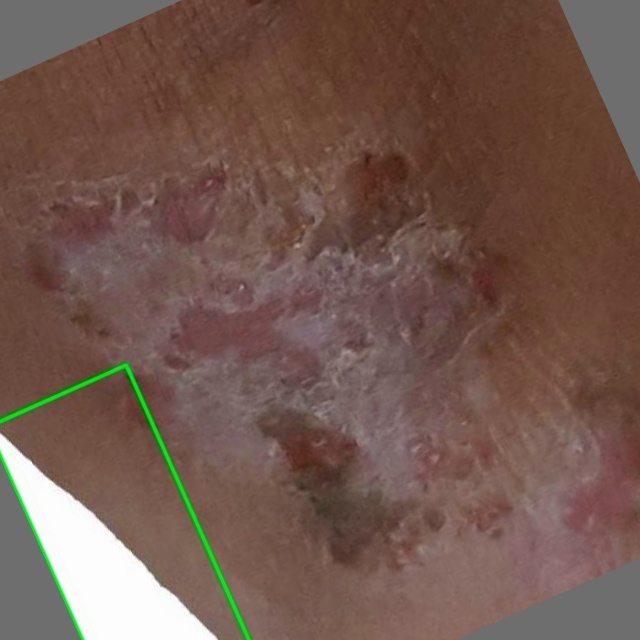Contact Dermatitis: (0, 364, 248, 639)
